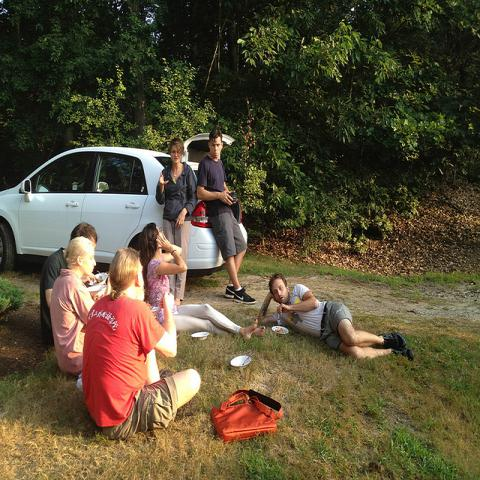car: (0, 133, 248, 275)
